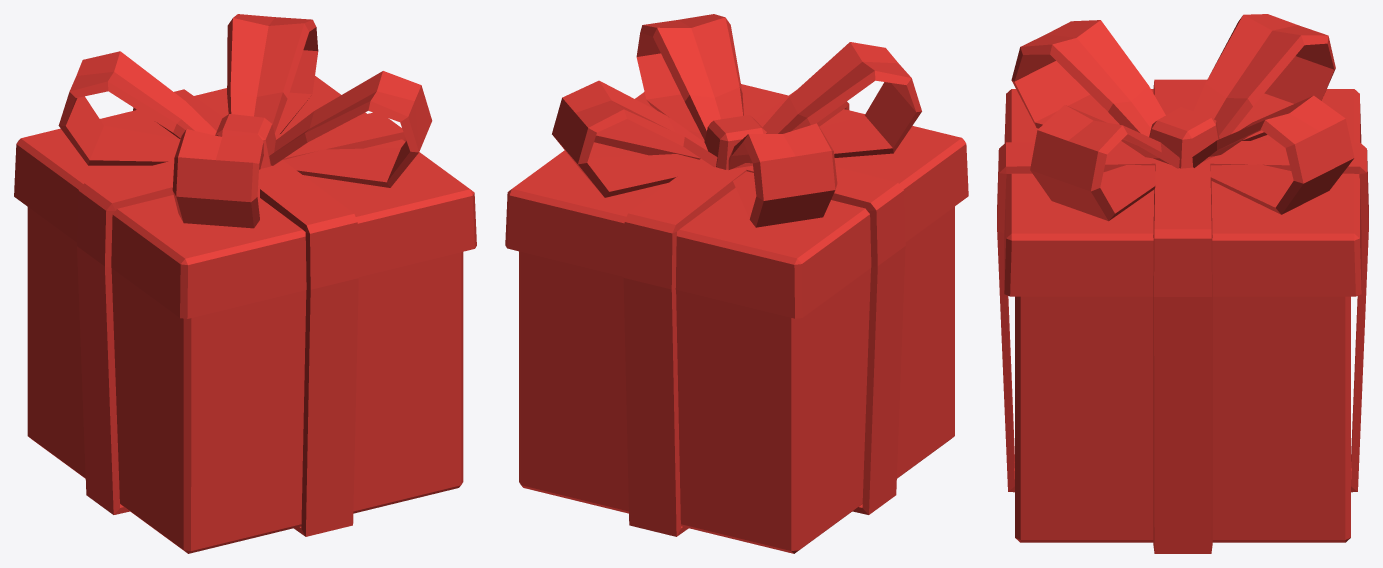
Rendered from SM_Gift_Christmas_Cube_C.fbx.
3 renders of one model, left to right at view 1: azimuth 30°, elevation 25°; view 2: azimuth 150°, elevation 25°; view 3: azimuth 270°, elevation 25°, orthographic. The views are drawn at different scales.
Parts seen in each view (by area): view 1: gift-christmas-cube-c; view 2: gift-christmas-cube-c; view 3: gift-christmas-cube-c.
Boxes of the visible parts, left/top/right/bottom form: gift-christmas-cube-c: left=14, top=14, right=476, bottom=553; gift-christmas-cube-c: left=505, top=14, right=968, bottom=553; gift-christmas-cube-c: left=997, top=14, right=1368, bottom=553.
Bounding box in the file's own units: 0.3317 × 0.4065 × 0.3317.
